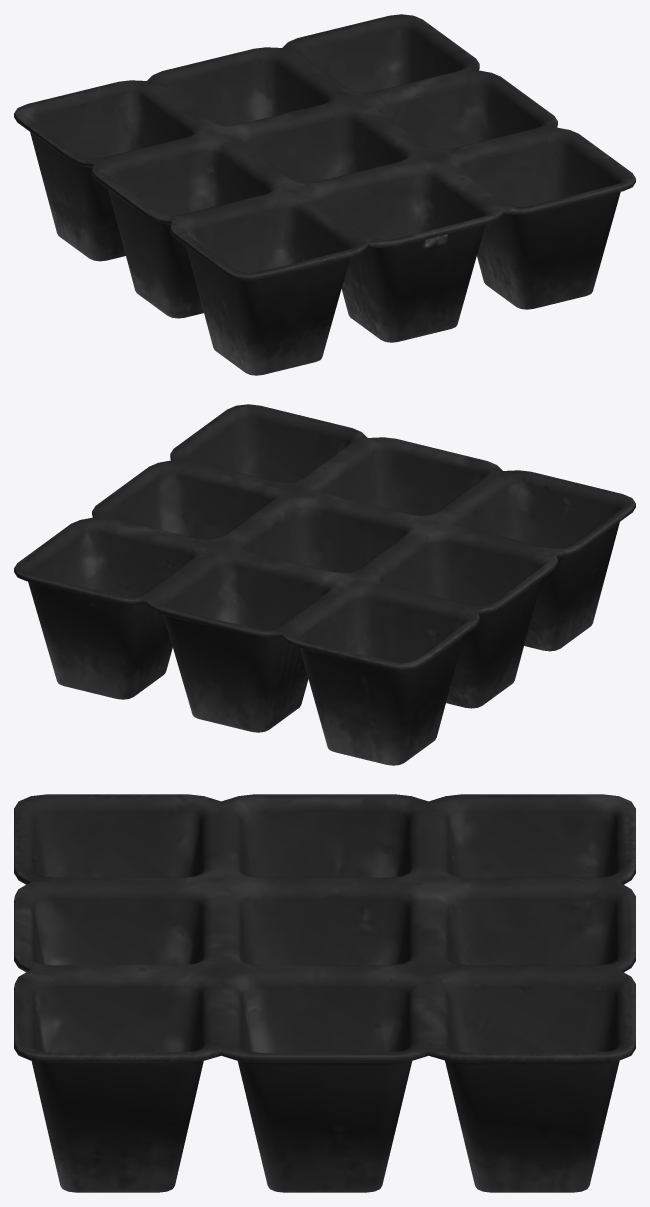
File: seeding_tray_01.glb
3 renders of one model, top to bottom at view 1: azimuth 30°, elevation 25°; view 2: azimuth 150°, elevation 25°; view 3: azimuth 270°, elevation 25°, orthographic. The views are drawn at different scales.
Visible parts, largest first — view 1: seeding_tray_01; view 2: seeding_tray_01; view 3: seeding_tray_01.
Part boxes in pixels (bbox=[...]): seeding_tray_01: bbox=[14, 14, 635, 375]; seeding_tray_01: bbox=[14, 404, 635, 765]; seeding_tray_01: bbox=[14, 794, 635, 1192].
Bounding box in the file's own units: 0.2202 × 0.0608 × 0.2202.
Materials: 1 (1 with a texture image).
